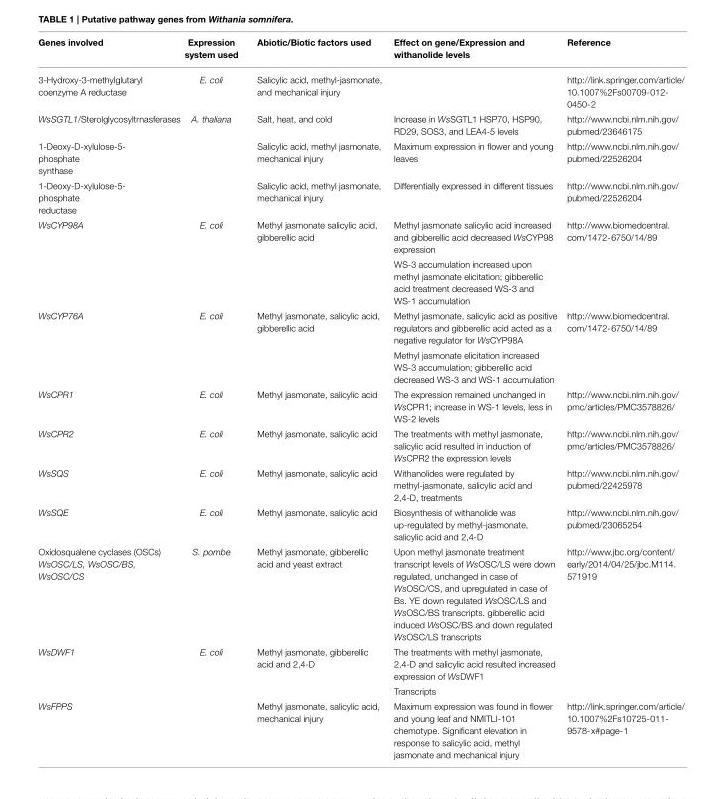table: (37, 37, 683, 759)
table column: (387, 37, 561, 759), (37, 37, 181, 759), (246, 37, 387, 759), (561, 37, 683, 759), (181, 37, 246, 759)
table column header: (37, 37, 683, 67)
table row: (37, 544, 683, 644), (37, 698, 683, 759), (37, 256, 683, 308), (37, 67, 683, 111), (37, 138, 683, 178), (37, 386, 683, 426), (37, 504, 683, 544), (37, 178, 683, 217), (37, 217, 683, 256), (37, 308, 683, 347), (37, 347, 683, 386), (37, 426, 683, 465), (37, 465, 683, 504), (37, 644, 683, 683), (37, 37, 683, 67), (37, 111, 683, 138), (37, 683, 683, 698)
table spanning cell: (37, 217, 181, 308), (37, 308, 181, 386), (37, 644, 181, 698)
